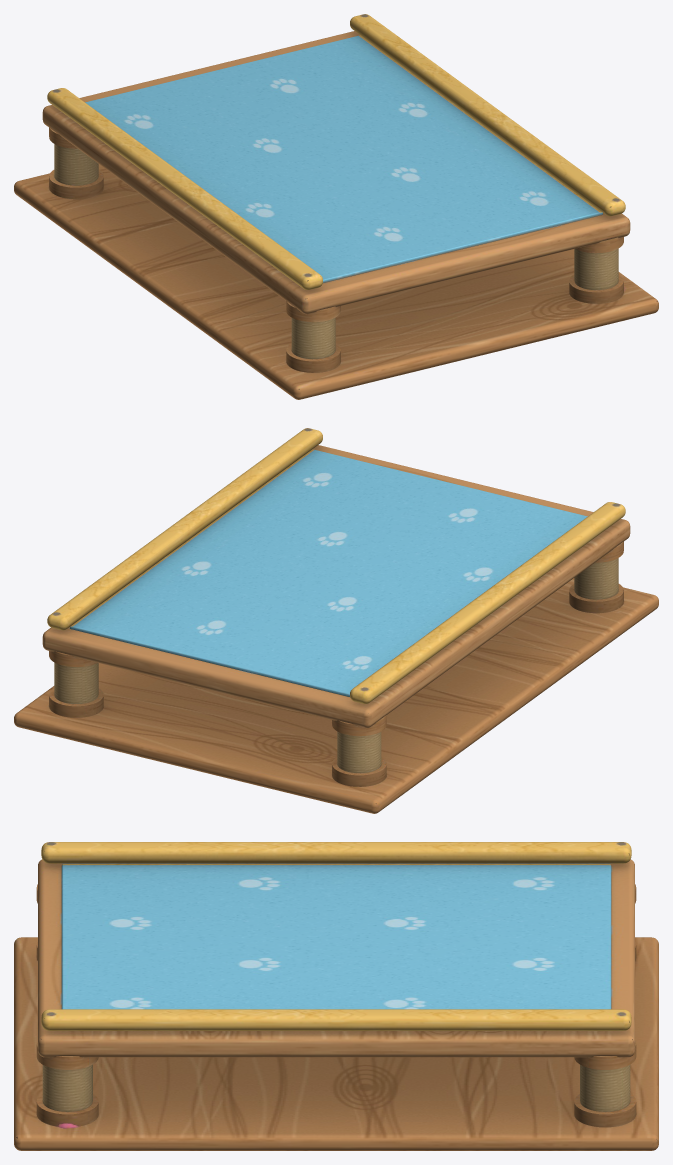
File: cat_tower_1.glb
3 views of the same model, one above another, from view 1: azimuth 30°, elevation 25°; view 2: azimuth 150°, elevation 25°; view 3: azimuth 270°, elevation 25° (orthographic). The views are drawn at different scales.
Visible parts, largest first — view 1: cat_tower_1; view 2: cat_tower_1; view 3: cat_tower_1.
Part boxes in pixels (box(x1,y1,x2,y2)): cat_tower_1: box(14, 14, 658, 399); cat_tower_1: box(14, 428, 658, 813); cat_tower_1: box(14, 842, 658, 1150).
Bounding box in the file's own units: 0.8 × 0.228 × 1.08.
1 material, 1 textured.
